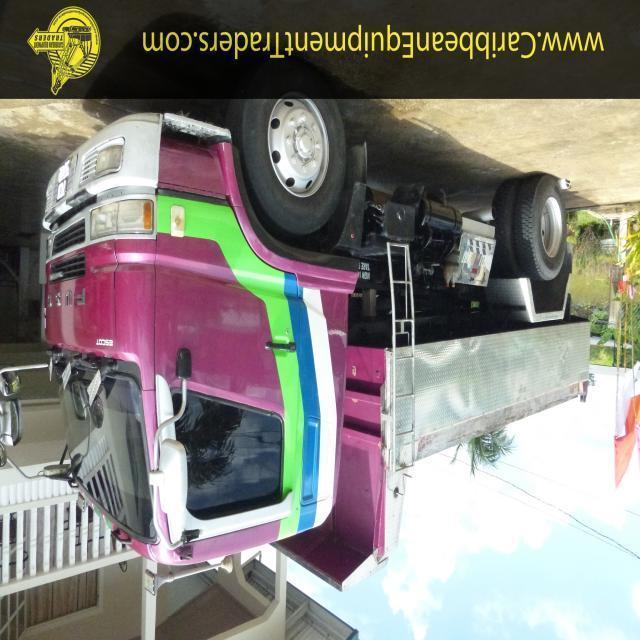Truck: (2, 97, 594, 594)
